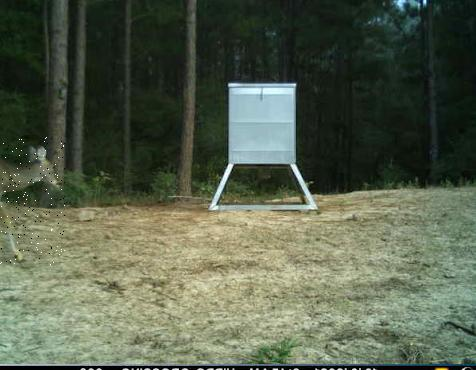Deer: (0, 137, 65, 265)
